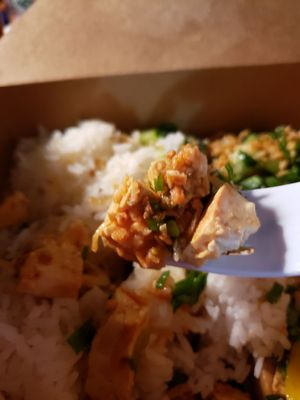curry: (222, 124, 300, 192)
